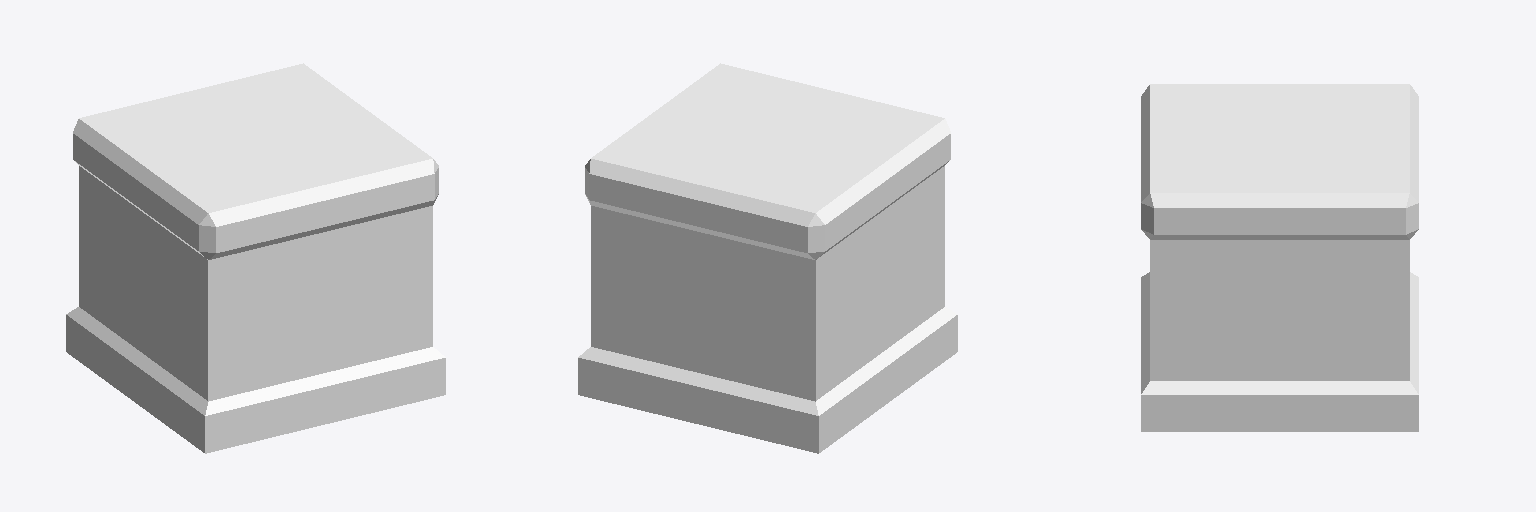
File: Building.obj
The picture shows the model from 3 angles: view 1: azimuth 30°, elevation 25°; view 2: azimuth 150°, elevation 25°; view 3: azimuth 270°, elevation 25°; orthographic projection.
Parts seen in each view (by area): view 1: default; view 2: default; view 3: default.
Part boxes in pixels (x1,y1,x2,y2): default: (66, 63, 445, 453); default: (578, 63, 957, 453); default: (1141, 84, 1418, 431).
Bounding box in the file's own units: 1.07 × 1 × 1.07.